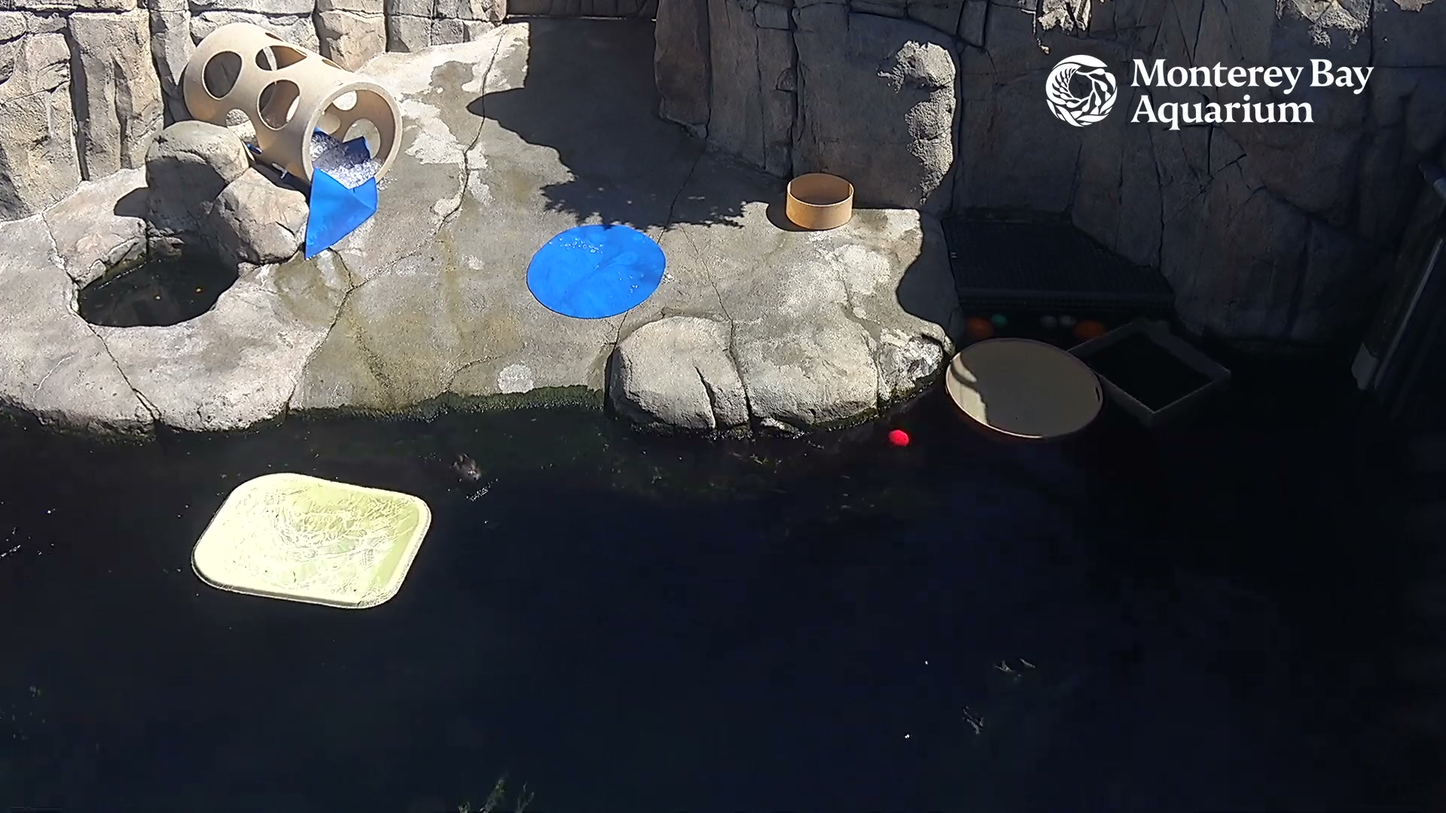Southern Sea Otter: (419, 410, 510, 515)
